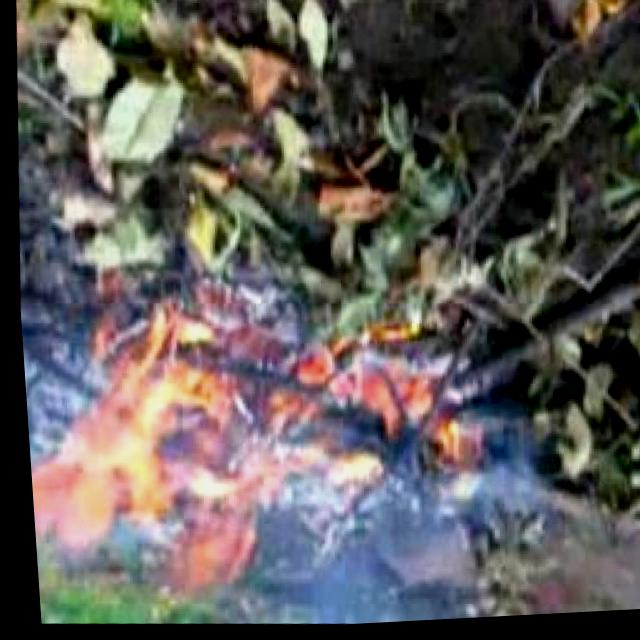Fire: (18, 298, 488, 625)
